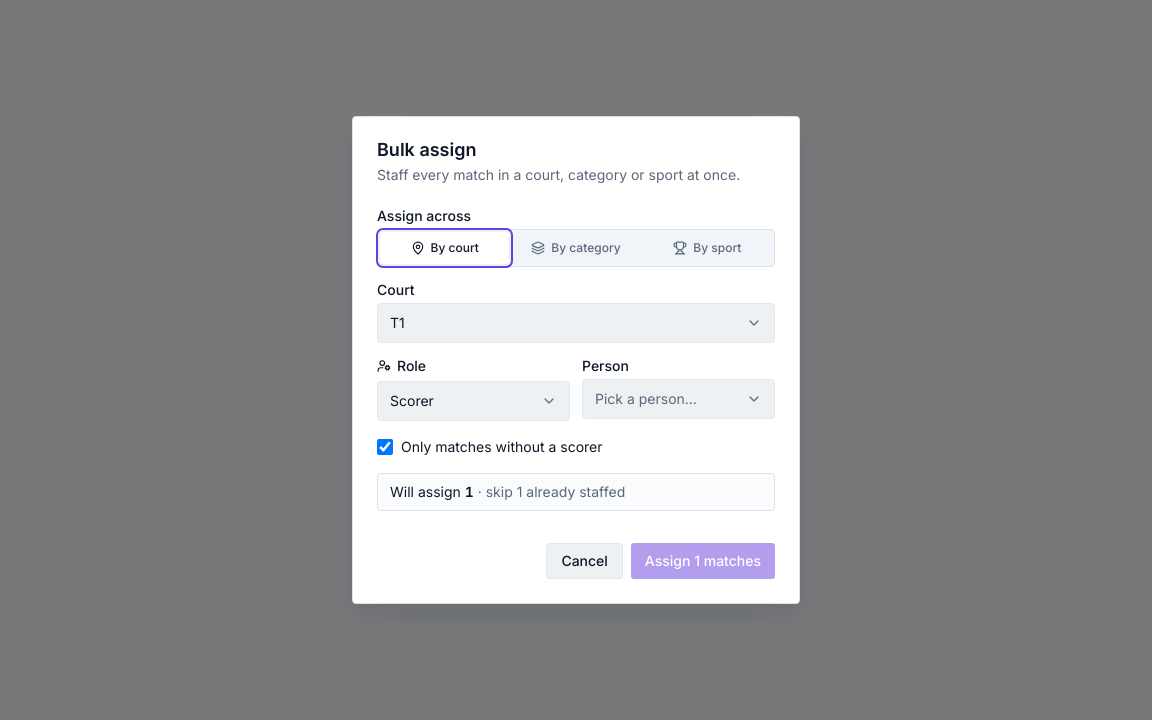
Scenario: BulkAssignDialog › counts all matches when only-unassigned is unchecked
The image size is (1152, 720).
Expected: the element with test id "bulk-preview" is shown, [377,473,775,511]
Click the checkbox with test id "bulk-only-unassigned" at (385, 447), box [377,439,393,455]
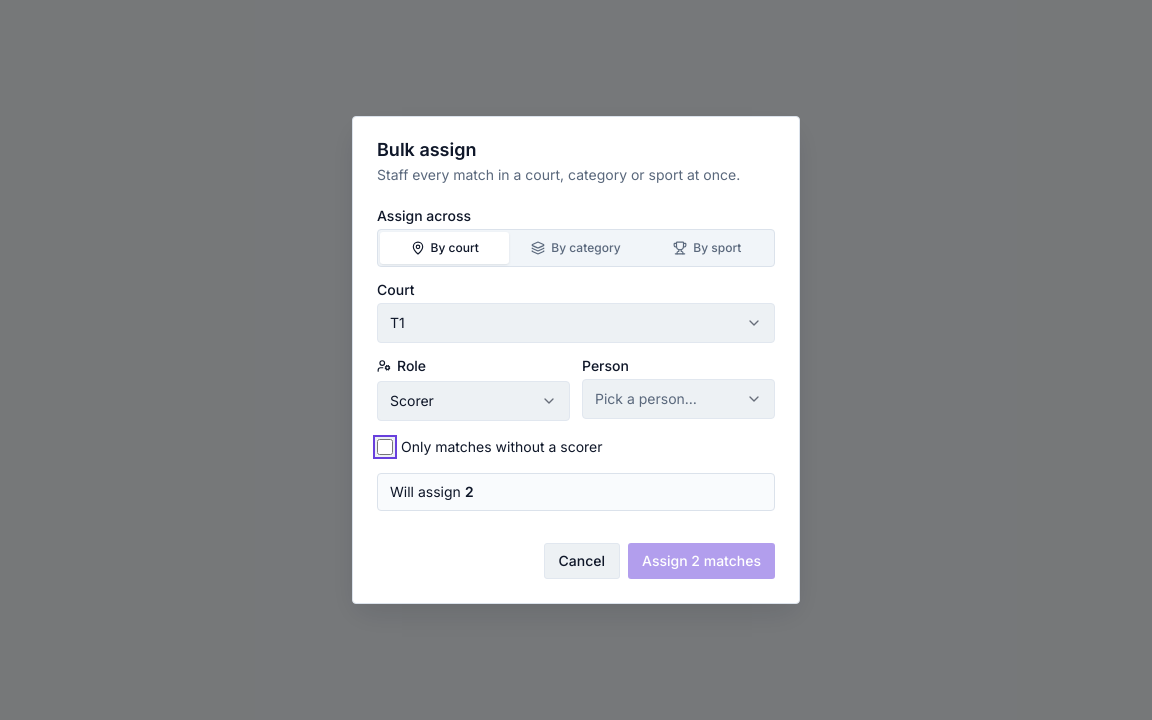
Result: the element with test id "bulk-preview" shows "2" at [465,483,474,500]
Result: the text "skip" is gone
